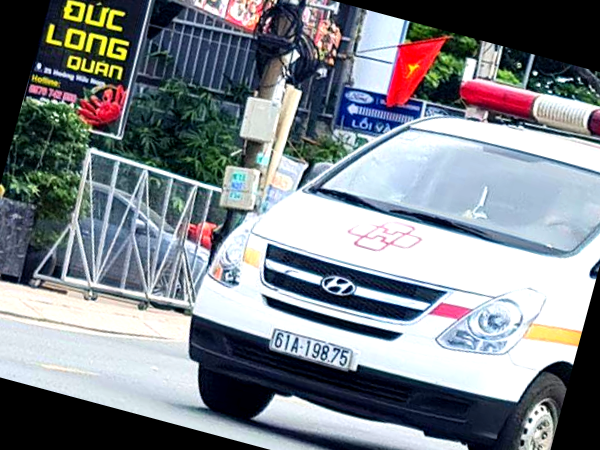lisence: (270, 329, 352, 372)
